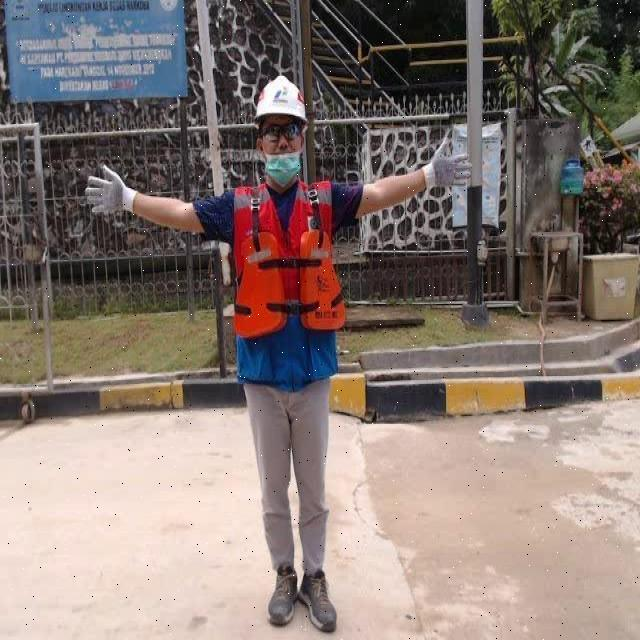goggles_on: (256, 120, 306, 144)
